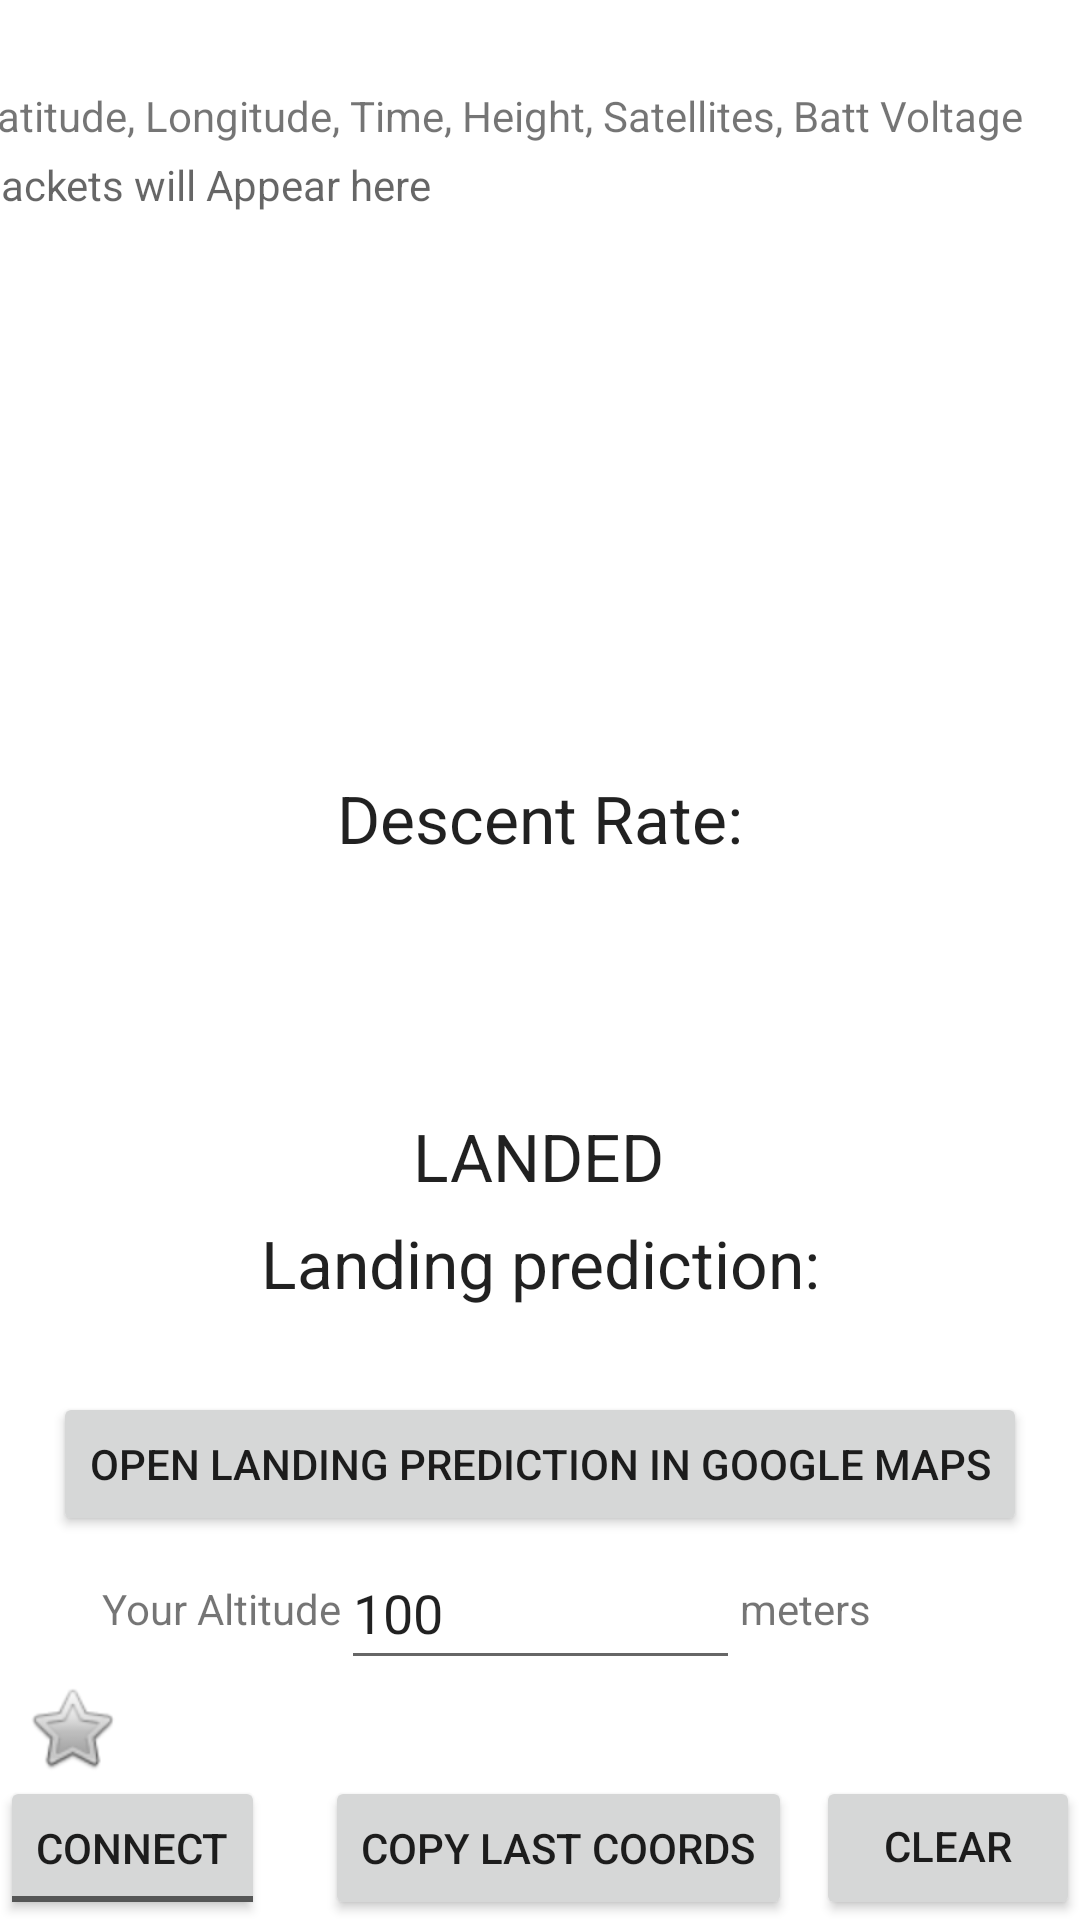

Where to tap for icons on this 1080 x 1920 app screen, as (x,y):
Star Off: (73,1729)
